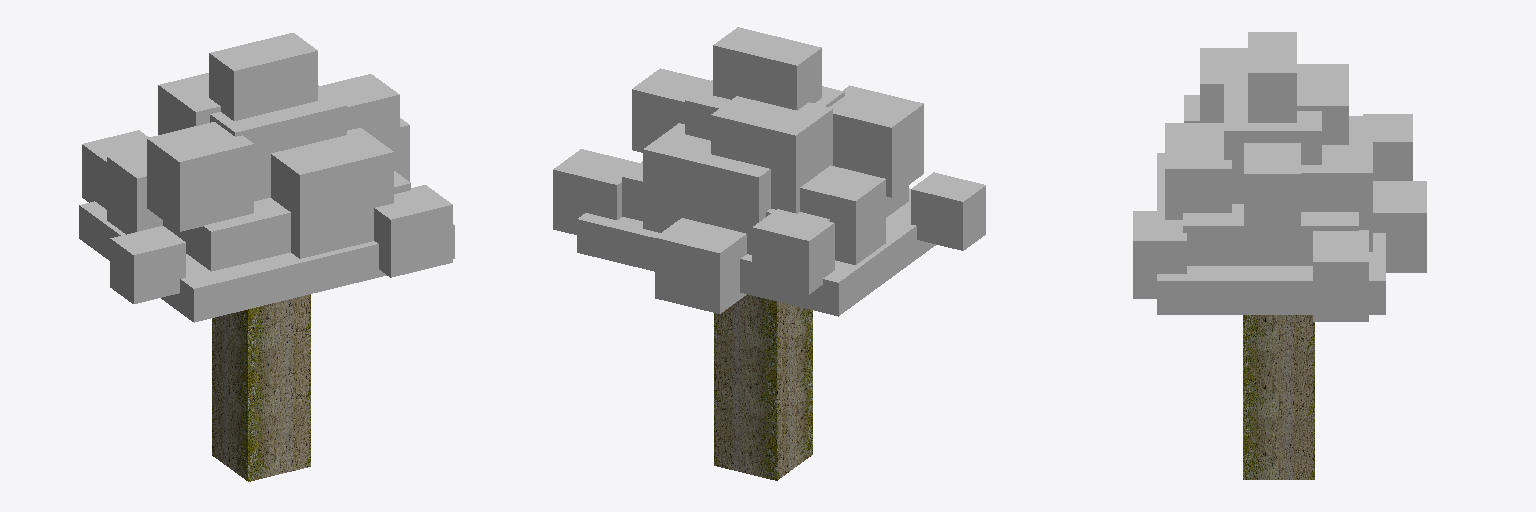
3 views of the same model, side by side, from view 1: azimuth 30°, elevation 25°; view 2: azimuth 150°, elevation 25°; view 3: azimuth 270°, elevation 25° (orthographic).
Parts seen in each view (by area): view 1: Plane_Leaves_small, Plane.001_tree_bark_03; view 2: Plane_Leaves_small, Plane.001_tree_bark_03; view 3: Plane_Leaves_small, Plane.001_tree_bark_03.
Boxes of the visible parts, x1=… form: Plane_Leaves_small: x1=79, y1=33, x2=454, y2=322; Plane.001_tree_bark_03: x1=212, y1=294, x2=310, y2=481; Plane_Leaves_small: x1=553, y1=27, x2=985, y2=316; Plane.001_tree_bark_03: x1=714, y1=294, x2=812, y2=480; Plane_Leaves_small: x1=1133, y1=32, x2=1426, y2=321; Plane.001_tree_bark_03: x1=1243, y1=315, x2=1314, y2=479.
Size of the model in its own units: 5.3 by 6.12 by 3.97.
Materials: 2 (1 with a texture image).